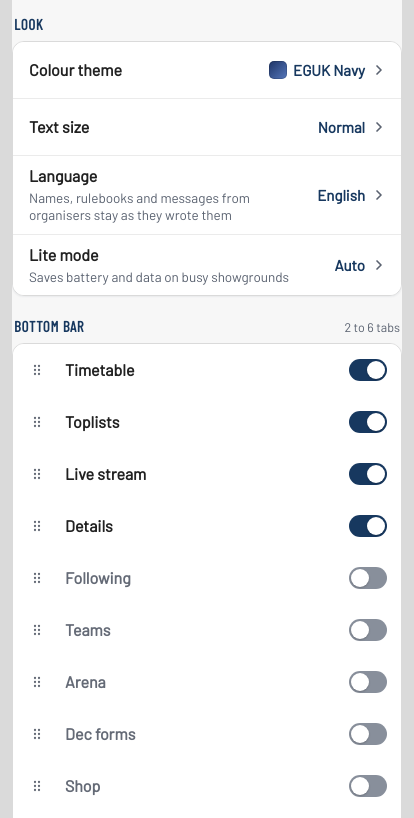
Test case: language picker in Settings › picks a language from the Look card and translates the page
This screenshot has width=414, height=818.
Click the dropdown labelled "Language": click(207, 195) [13,156,401,234]
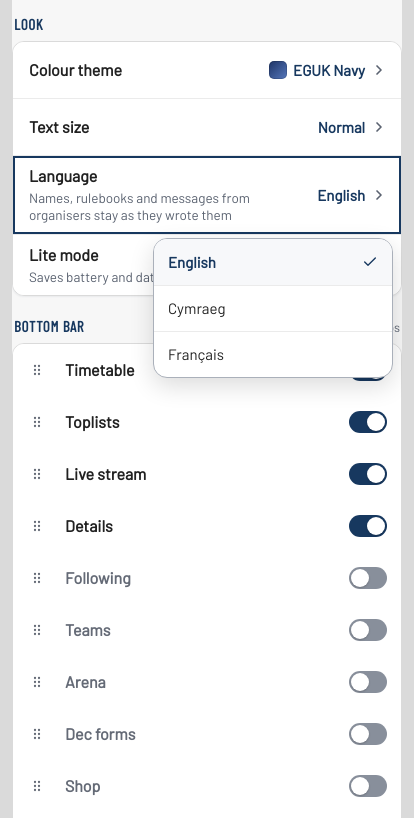
Check: the options read "English", "Cymraeg", "Français", in this order
Click the option "Cymraeg": click(273, 308) [154,285,392,331]
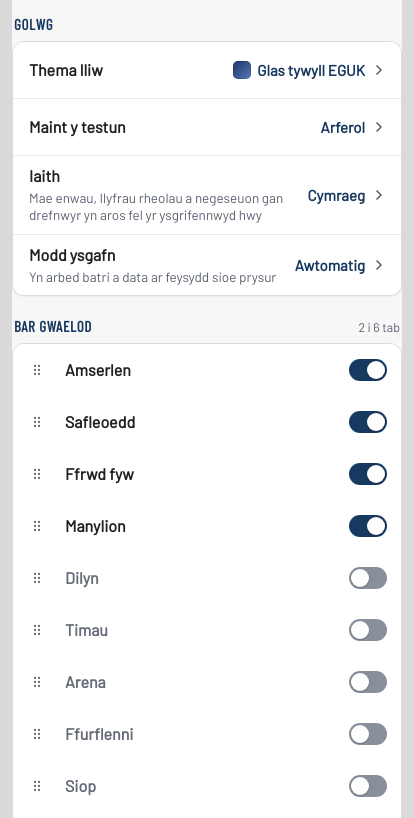
Check: the dropdown labelled "Iaith" shows "Cymraeg", box [13,156,401,234]
Check: the text "Amserlen" is shown, box [65,360,131,379]
Check: the switch named "Dangos Amserlen yn y bar gwaelod" is shown, box [349,359,387,381]
